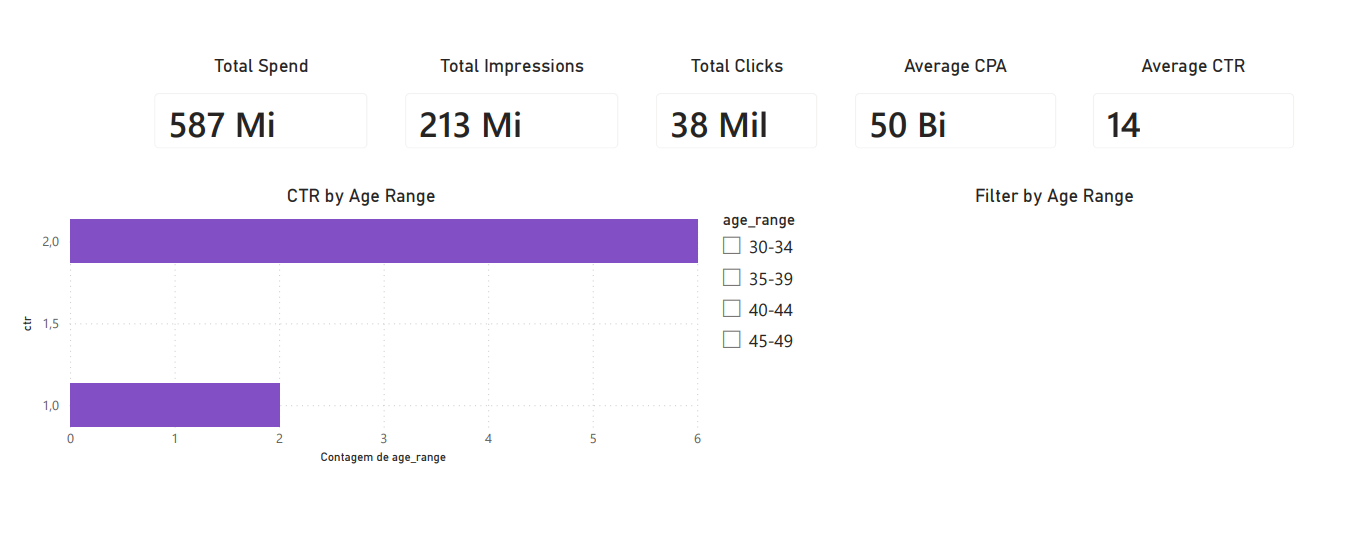

The page's visual inventory and layout, read from the dashboard file:
{"tool":"powerbi","page":{"name":"Página 1","canvas":[1280,720],"ordinal":0},"visuals":[{"type":"cardVisual","title":"Total Spend","fields":{"Data":["Sum(campaign_metrics.spent)"]},"box":[111,38.1,231.9,104.4],"z":0},{"type":"cardVisual","title":"Total Impressions","fields":{"Data":["Sum(campaign_metrics.impressions)"]},"box":[342.9,38.1,231.9,104.4],"z":1},{"type":"cardVisual","title":"Total Clicks","fields":{"Data":["Sum(campaign_metrics.clicks)"]},"box":[574.8,38.1,183.9,104.4],"z":2},{"type":"cardVisual","title":"Average CPA","fields":{"Data":["Sum(campaign_metrics.cpa)"]},"box":[758.7,38.1,220.3,104.4],"z":3},{"type":"cardVisual","title":"Average CTR","fields":{"Data":["Sum(campaign_metrics.ctr)"]},"box":[979,38.1,220.3,104.4],"z":4},{"type":"clusteredBarChart","title":"CTR by Age Range","fields":{"Category":["campaign_metrics.ctr"],"Y":["CountNonNull(campaign_metrics.age_range)"]},"box":[0,159,639.4,261.7],"z":5},{"type":"slicer","title":"Filter by Age Range","fields":{"Values":["campaign_metrics.age_range"]},"box":[641.1,159,639.4,261.7],"z":6}]}

Visuals, with their boxes on the page's 1280x720 design canvas (x1, y1, x2, y2). These are canvas units, not pixel positions in the 1351x557 screenshot, which may show the page scaled, cropped or inside an application window:
"Total Spend" cardVisual: {"left": 111, "top": 38, "right": 343, "bottom": 142}
"Total Impressions" cardVisual: {"left": 343, "top": 38, "right": 575, "bottom": 142}
"Total Clicks" cardVisual: {"left": 575, "top": 38, "right": 759, "bottom": 142}
"Average CPA" cardVisual: {"left": 759, "top": 38, "right": 979, "bottom": 142}
"Average CTR" cardVisual: {"left": 979, "top": 38, "right": 1199, "bottom": 142}
"CTR by Age Range" clusteredBarChart: {"left": 0, "top": 159, "right": 639, "bottom": 421}
"Filter by Age Range" slicer: {"left": 641, "top": 159, "right": 1280, "bottom": 421}
